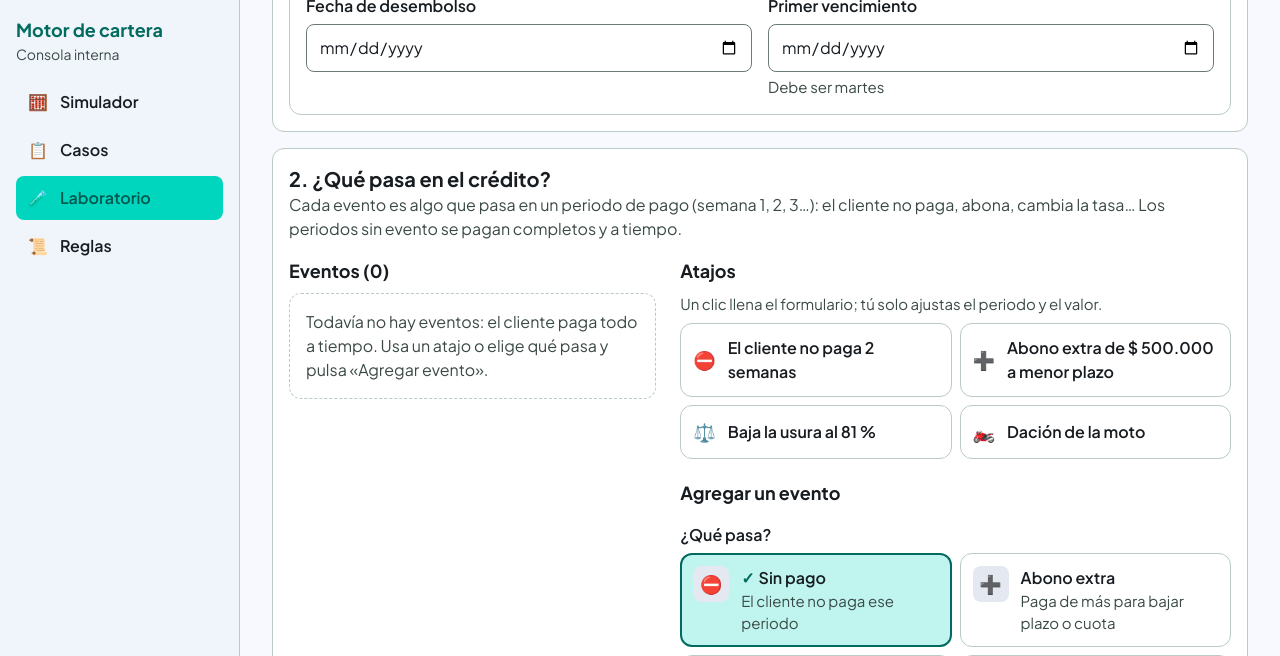
Test case: Laboratorio › el atajo "no paga 2 semanas" llena el formulario y crea dos periodos seguidos
This screenshot has width=1280, height=656.
(page scrolled)
Click the button "⛔ El cliente no paga 2 semanas". click: point(816, 360)
box: [680,323,952,397]
(page scrolled)
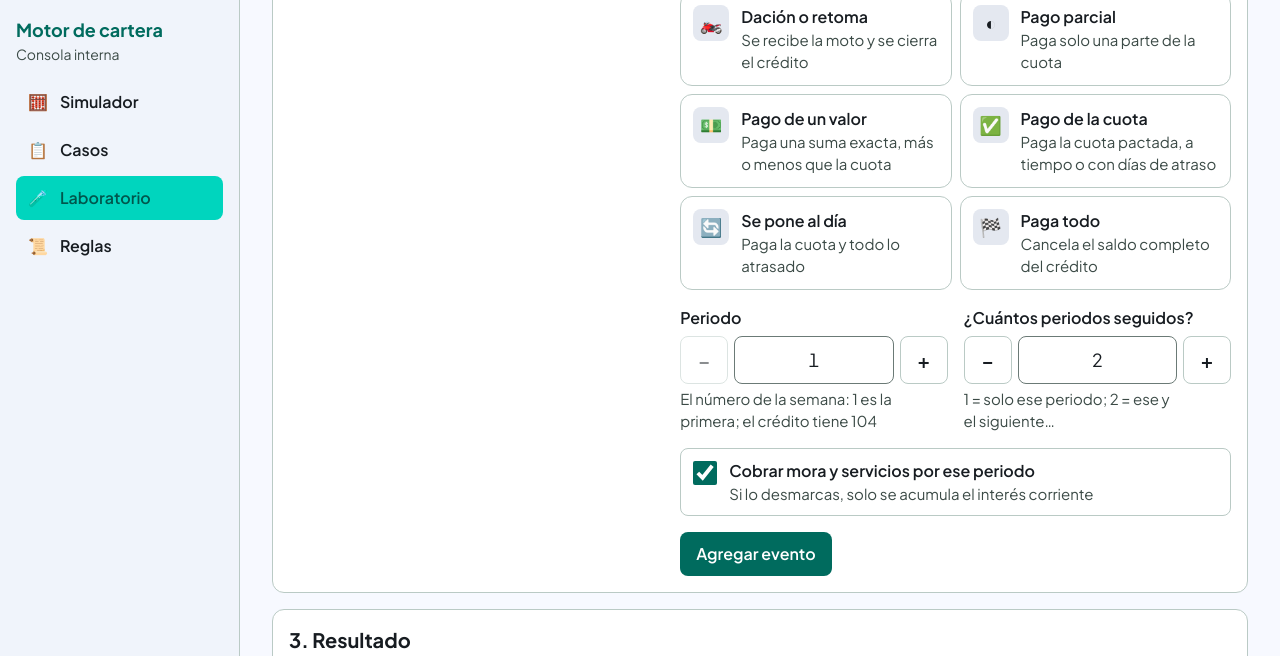
expect the field labelled "¿Cuántos periodos seguidos?" holds "2": met, box [1018,336,1177,384]
Click the button named "Periodo: sumar 1". click: point(924, 360)
box: [900,336,948,384]
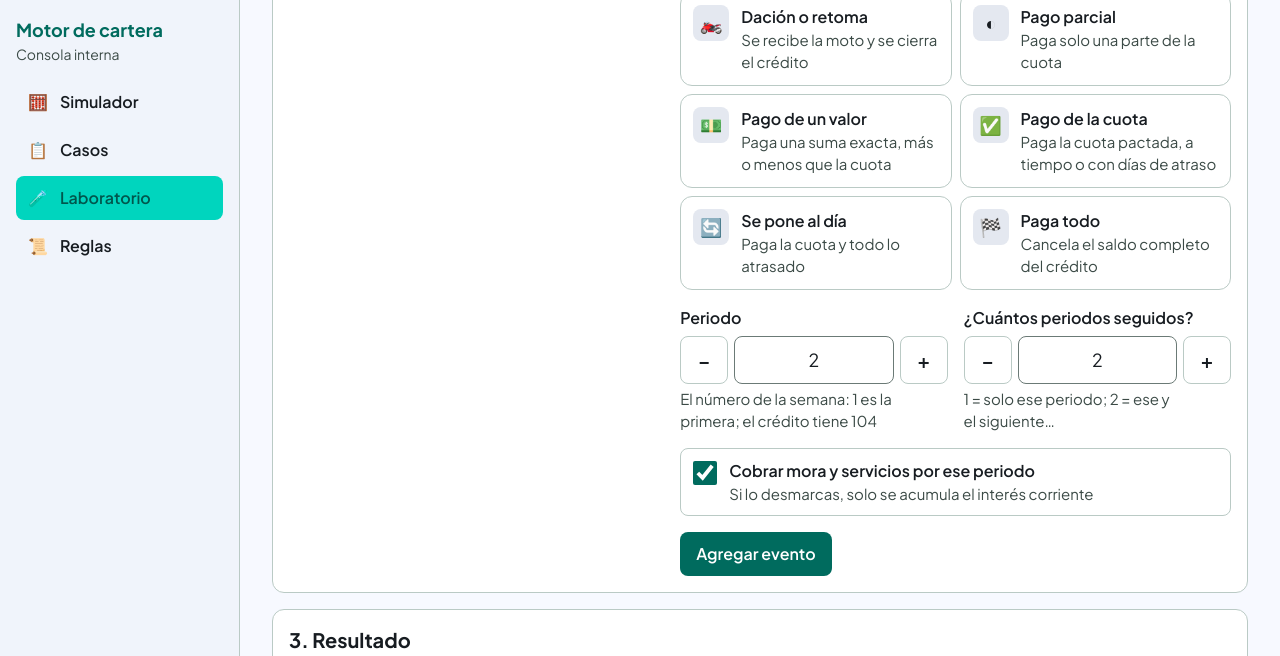
expect the field labelled "Periodo" holds "2": met
Replace the text in the field labelled "Periodo" with "40". click: point(814, 360)
box: [734,336,894,384]
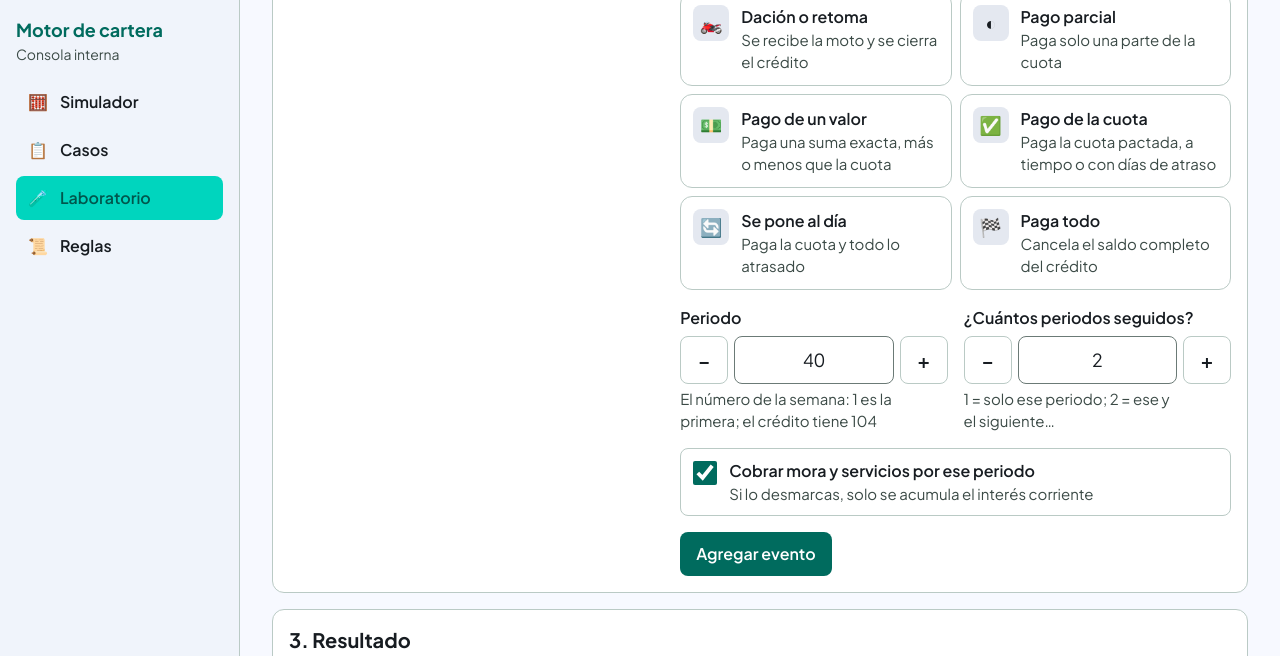
Click the button "Agregar evento". click: point(756, 554)
box: [680,532,832,576]
(page scrolled)
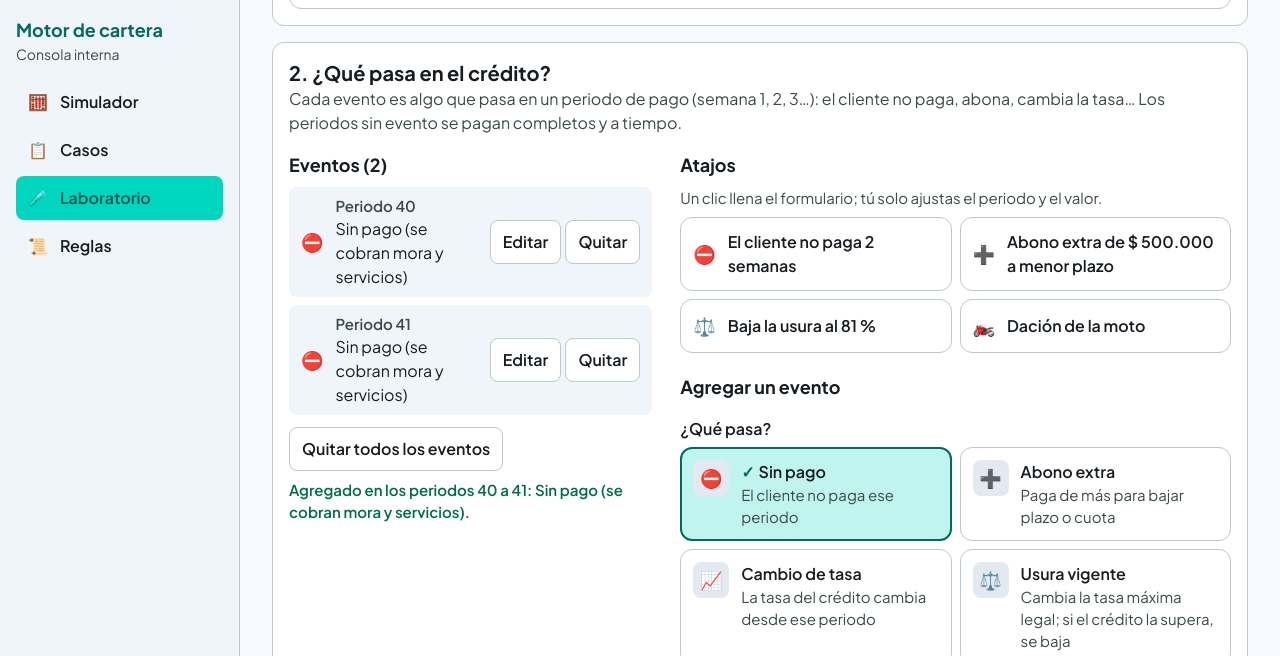
expect the button with aria-label "Editar el evento del periodo 40" is shown: met, box [490,220,561,264]
expect the button with aria-label "Editar el evento del periodo 41" is shown: met, box [490,338,561,382]
